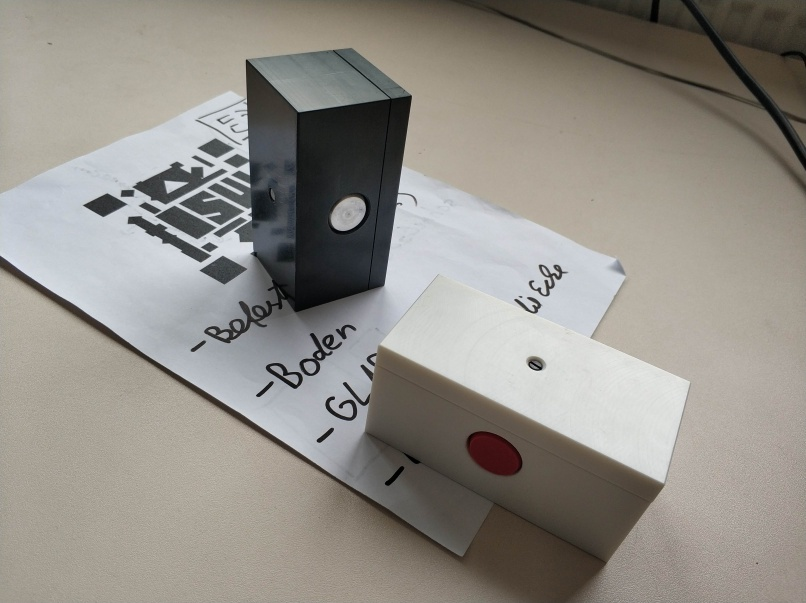black+black+silver: (243, 46, 414, 317)
white+white+red: (360, 271, 695, 566)
